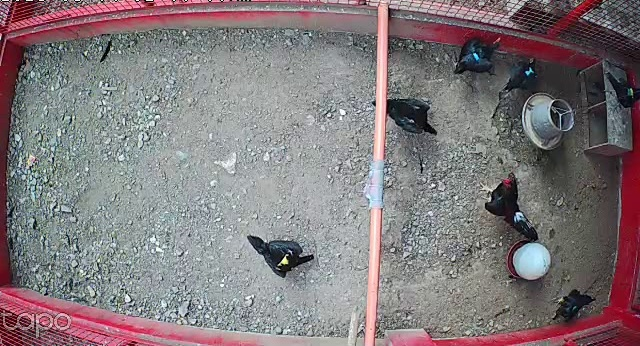Chicken: (244, 227, 315, 281), (370, 91, 439, 135), (452, 34, 502, 79), (598, 64, 640, 110), (547, 284, 594, 322), (499, 55, 539, 96)
Rooster: (477, 168, 541, 240)
Saddle_Color_Blue: (474, 52, 480, 60)
Saddle_Color_Yellow: (278, 249, 298, 268)
Saddle_Color_YellowGreen: (627, 87, 634, 98)
